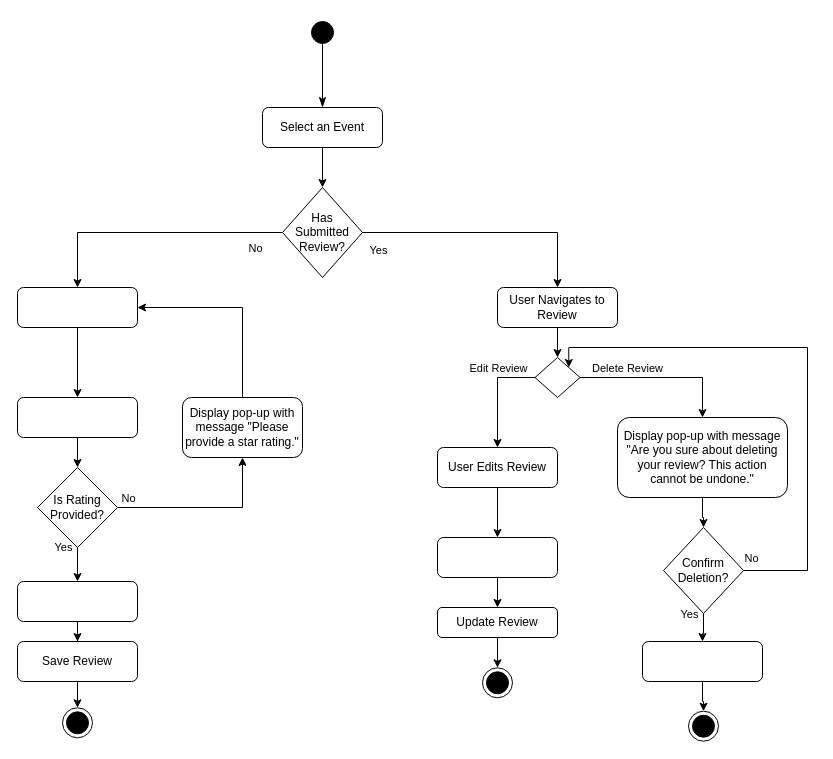
The diagram is 833 pixels wide and 759 high, and some of its shapes have lost their labels. The shapes that lost their labels are listed below. From the top down, each one's centre as x and y in pixels, then its label:
At point 77,307: "Enter Rating".
At point 77,417: "Add Optional Content".
At point 497,557: "User Submits Changes".
At point 77,601: "Submit Review".
At point 702,661: "Remove Review".
